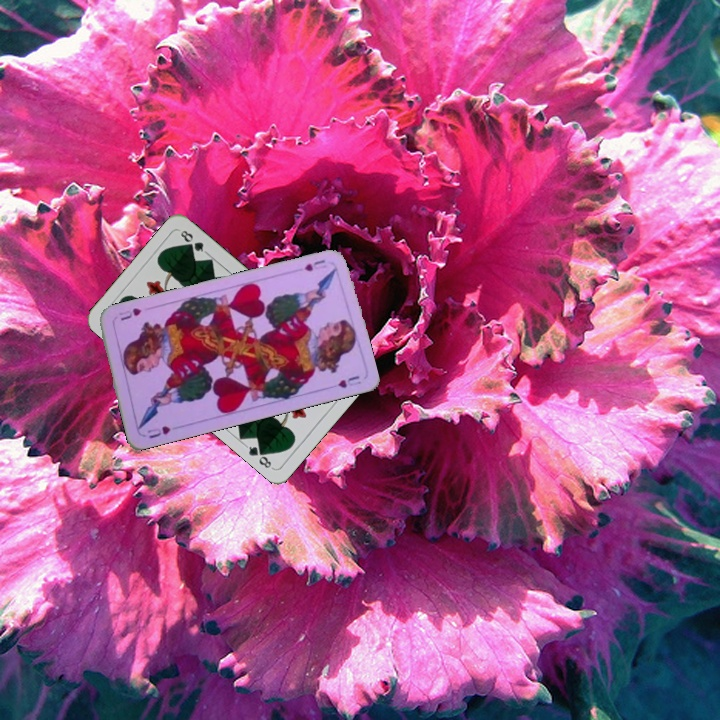HU: (143, 422, 173, 441), (300, 256, 329, 274)
